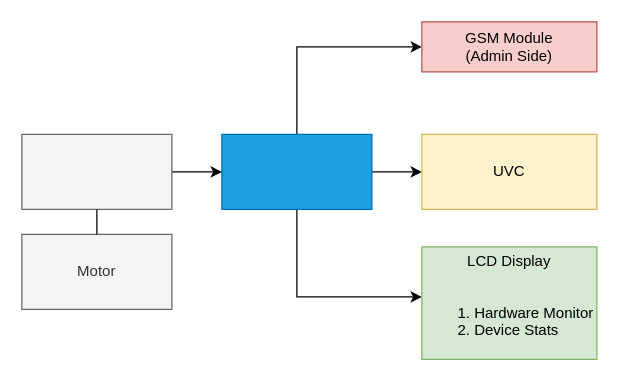
Some shapes in this 619 by 381 pixel diagram are drawn without their labels. The box of each missing label's shape, as (x1, y1, x2, y2) in pixels:
Arduino: (221, 133, 372, 209)
Sensor: (21, 133, 172, 209)
